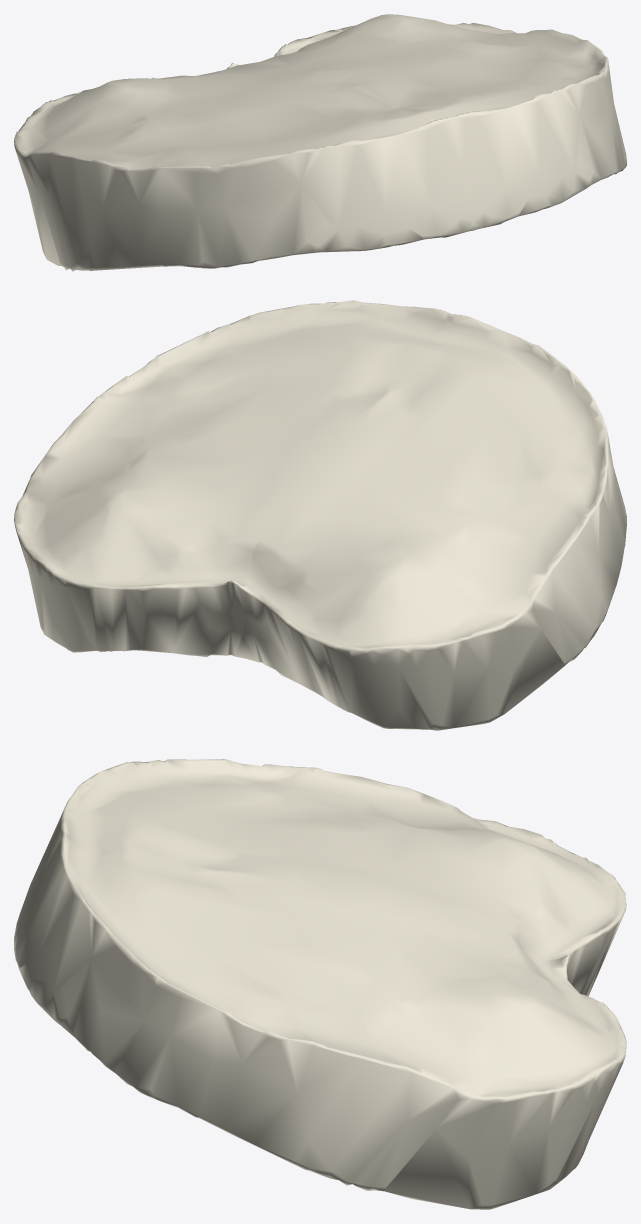
The picture shows the model from 3 angles, top to bottom: view 1: azimuth 30°, elevation 25°; view 2: azimuth 150°, elevation 25°; view 3: azimuth 270°, elevation 25°; orthographic projection. The views are drawn at different scales.
Parts seen in each view (by area): view 1: ZA_43feb2ec02857bda; view 2: ZA_43feb2ec02857bda; view 3: ZA_43feb2ec02857bda.
Part boxes in pixels (bbox=[...]): ZA_43feb2ec02857bda: bbox=[14, 14, 626, 271]; ZA_43feb2ec02857bda: bbox=[14, 300, 626, 730]; ZA_43feb2ec02857bda: bbox=[14, 759, 626, 1209].
Size of the model in its own units: 0.0445 by 0.0182 by 0.0397.
